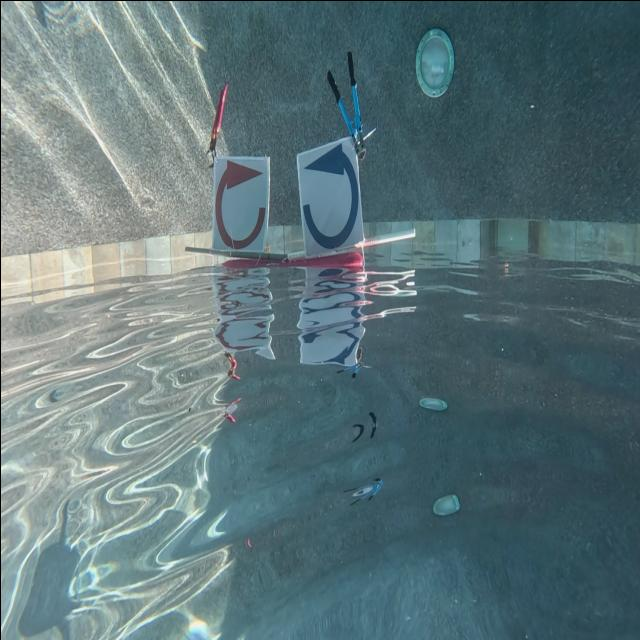blue_side: (293, 133, 362, 255)
red_side: (214, 150, 268, 256)
